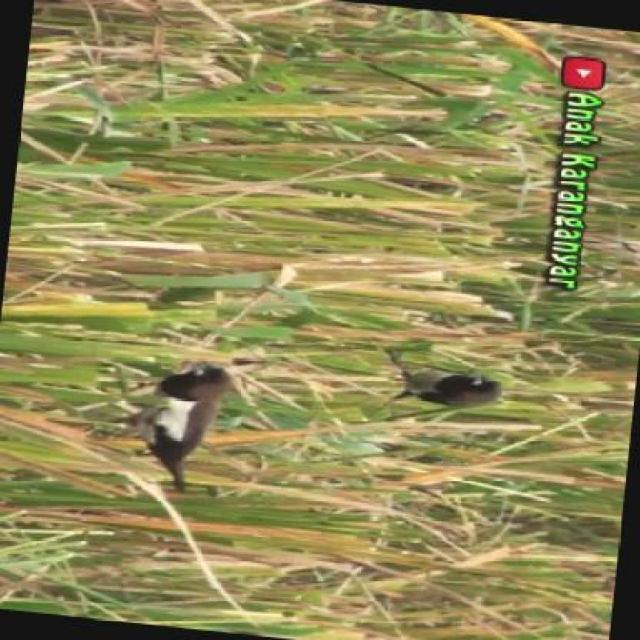Bird: (108, 347, 247, 506), (383, 335, 520, 421)
